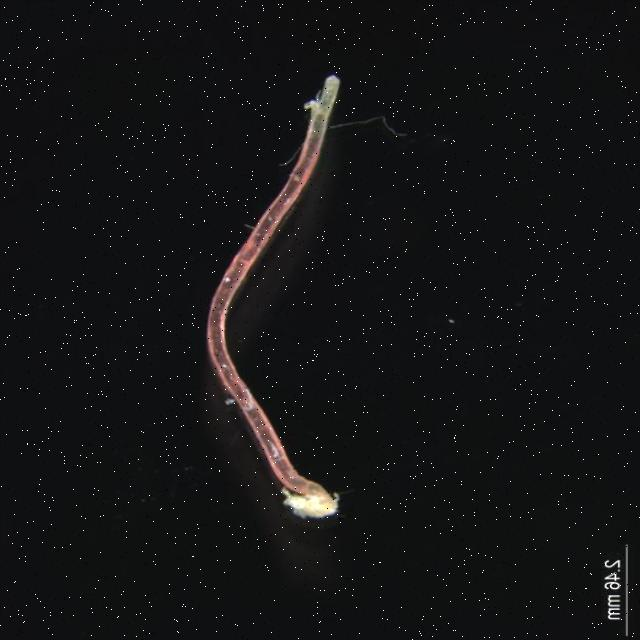Fibre: (210, 70, 360, 520)
